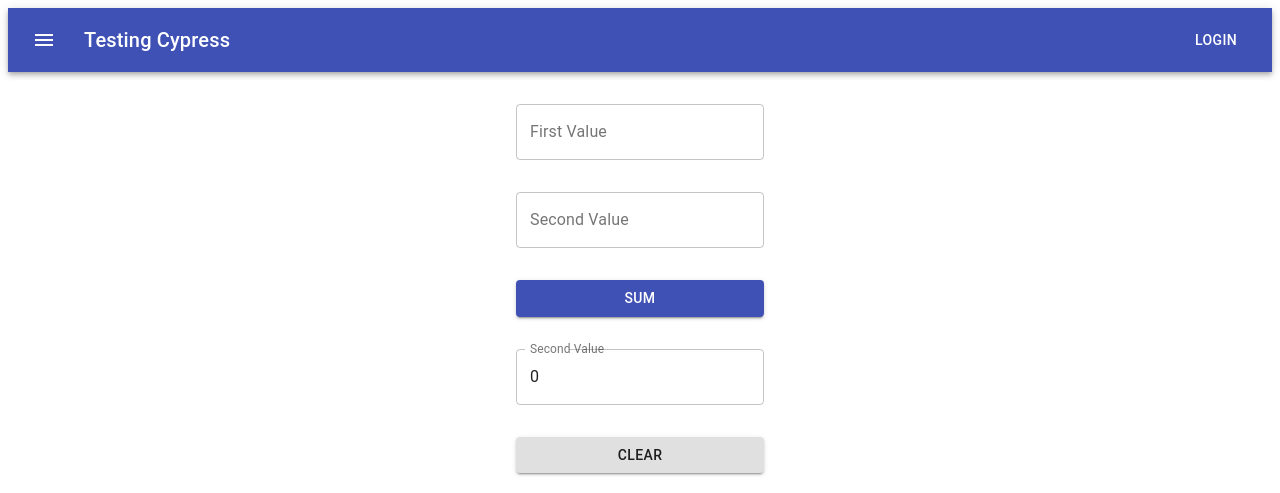
Test: To do Calc › Should to calc the two inputs values
Type "2" into the number field with id "firstValue" at x=640, y=132, box 516,104 -> 764,160
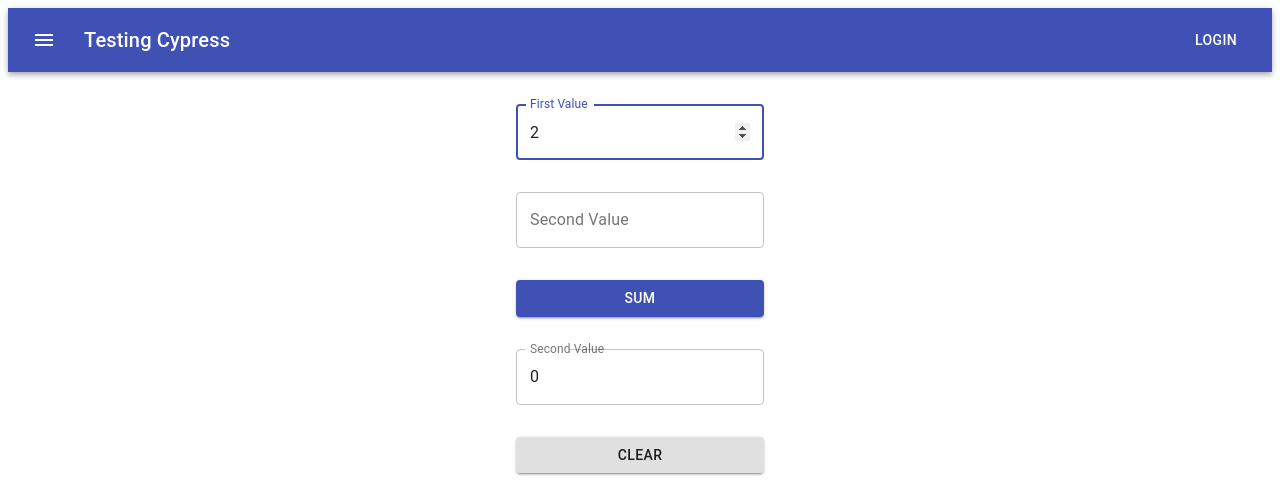
Type "3" into the number field with id "secondValue" at x=640, y=220, box 516,192 -> 764,248
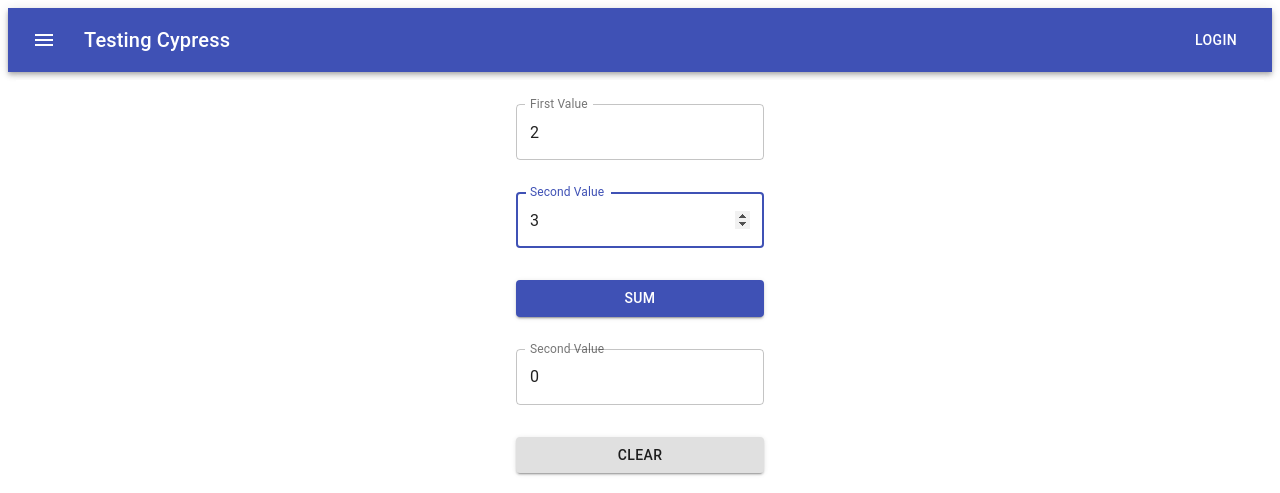
Click the button with test id "calcButton" at x=640, y=299, box 516,280 -> 764,317
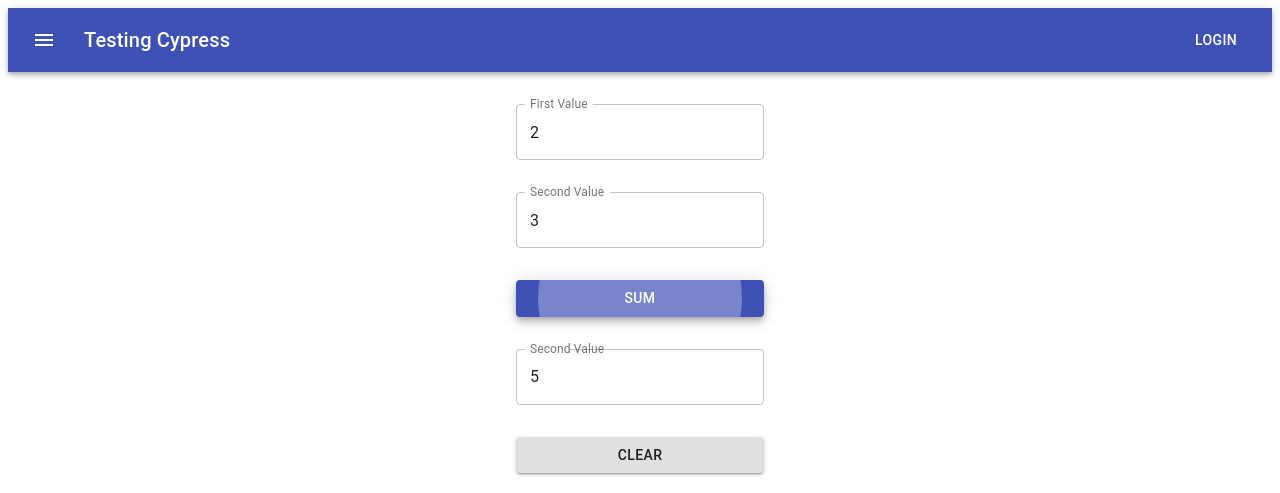
Result: the number field with id "result" holds "5" at 516,349 -> 764,405
